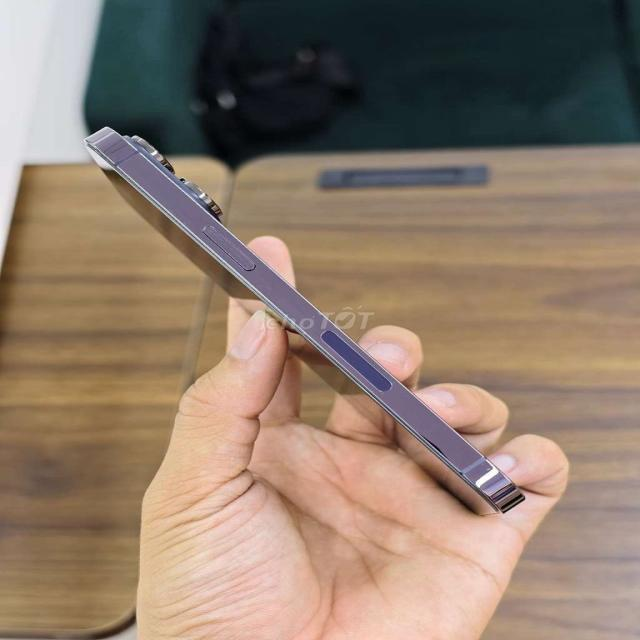gen_14: (75, 112, 532, 526)
